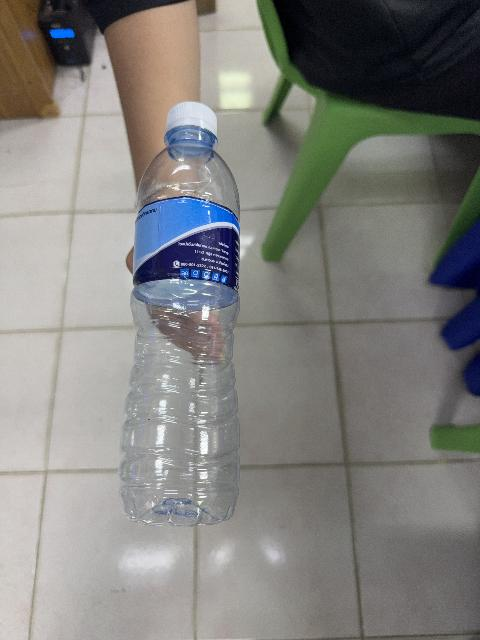bottle: (120, 103, 239, 525)
